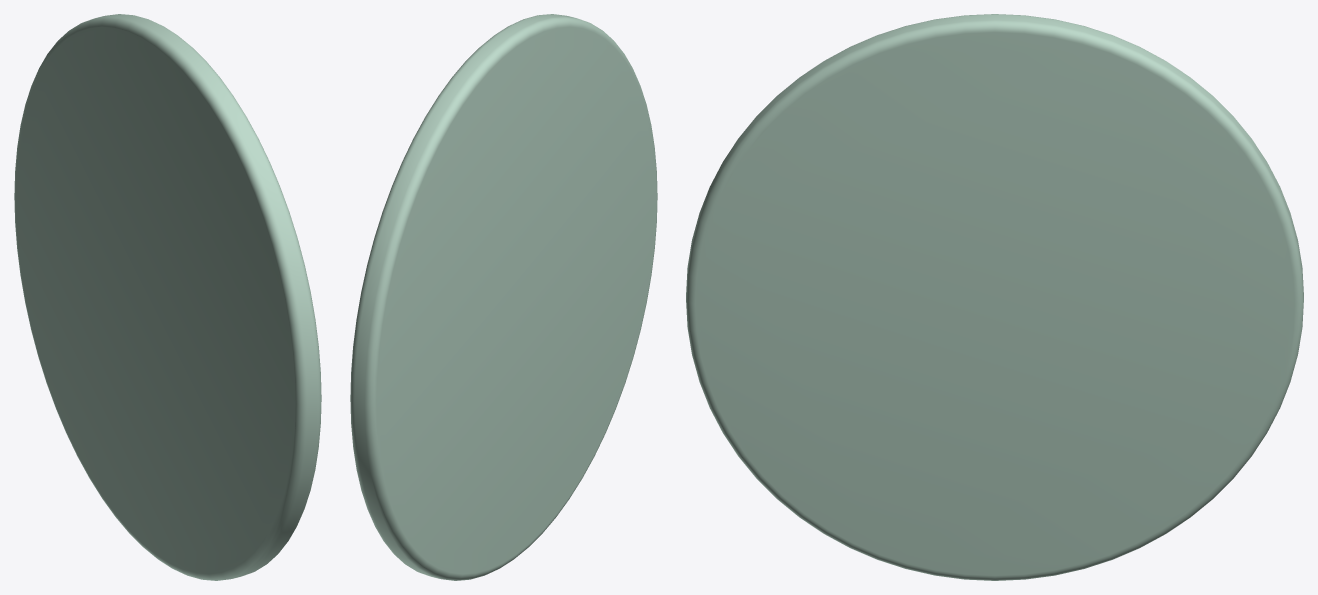
3 views of the same model, side by side, from view 1: azimuth 30°, elevation 25°; view 2: azimuth 150°, elevation 25°; view 3: azimuth 270°, elevation 25° (orthographic). The views are drawn at different scales.
Visible parts, largest first — view 1: disk; view 2: disk; view 3: disk.
Part boxes in pixels (x1=…): disk: x1=14, y1=14, x2=321, y2=580; disk: x1=350, y1=14, x2=657, y2=580; disk: x1=686, y1=14, x2=1303, y2=580.
Size of the model in its own units: 0.02 by 0.4 by 0.4.
